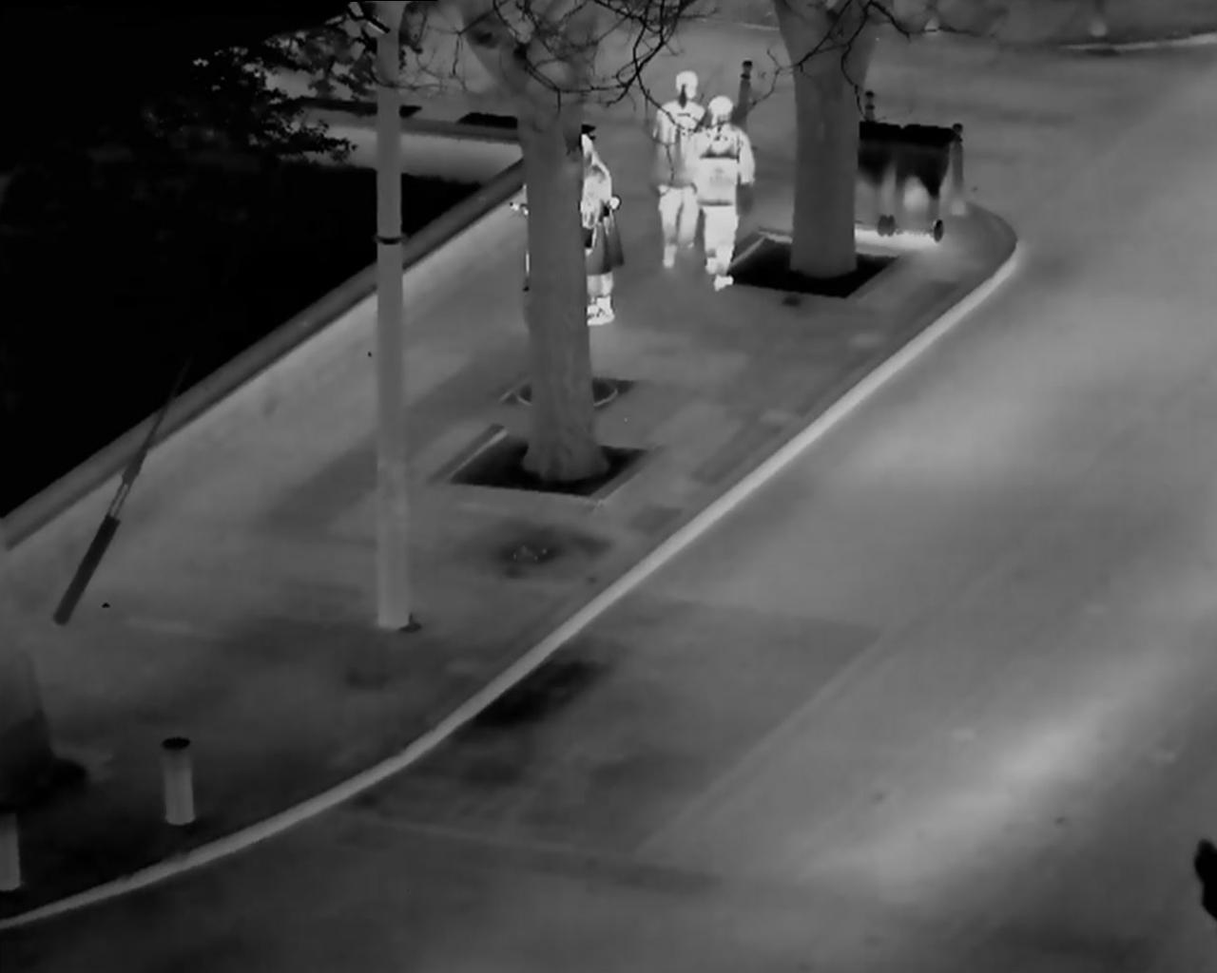person: (687, 86, 771, 307), (571, 122, 644, 352), (647, 59, 712, 274)
